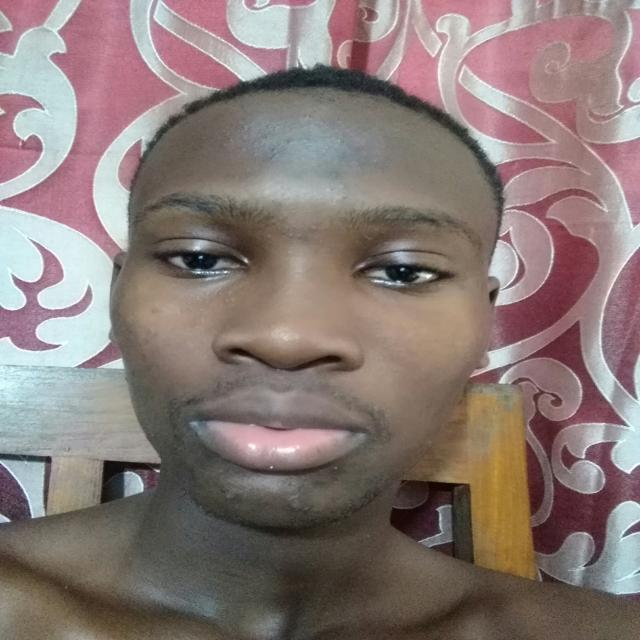acne: (268, 136, 294, 161), (284, 224, 320, 240), (286, 496, 312, 514), (142, 304, 164, 316), (217, 136, 233, 150), (327, 168, 342, 180), (219, 492, 234, 502), (250, 148, 260, 159), (316, 118, 326, 128), (335, 193, 346, 202), (239, 123, 249, 132), (303, 134, 312, 144), (324, 186, 336, 192)
